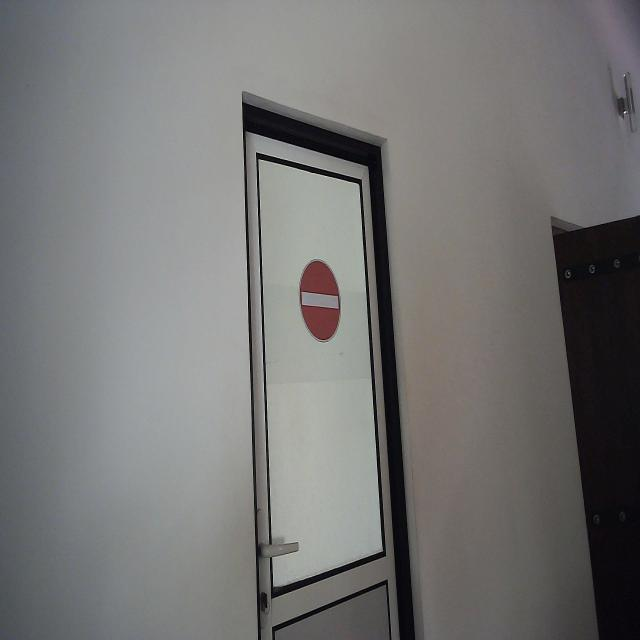no_entry: (297, 256, 343, 344)
